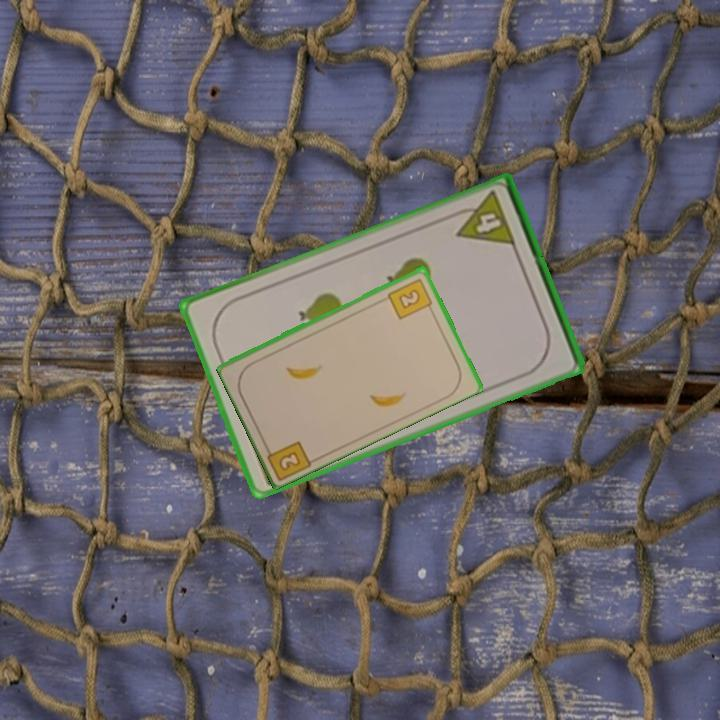2b: (384, 274, 436, 322), (261, 437, 315, 481)
4p: (447, 188, 519, 250)
